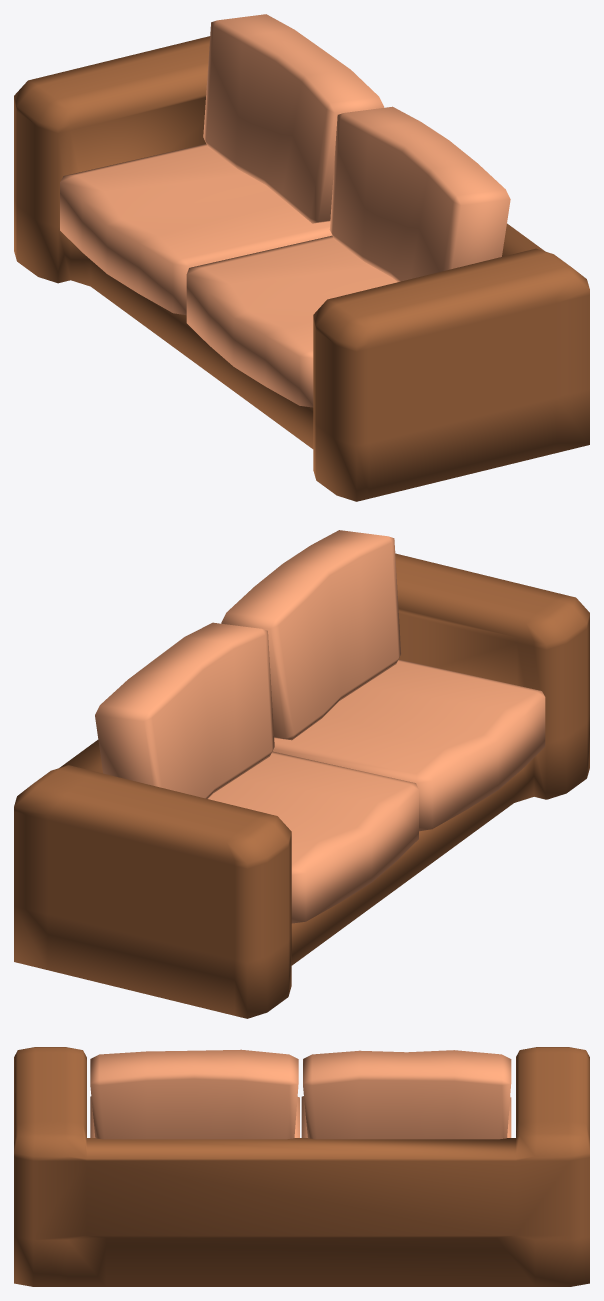
Rendered from Sofa.fbx.
3 renders of one model, top to bottom at view 1: azimuth 30°, elevation 25°; view 2: azimuth 150°, elevation 25°; view 3: azimuth 270°, elevation 25°, orthographic. The views are drawn at different scales.
Parts seen in each view (by area): view 1: Cube.8145; view 2: Cube.8145; view 3: Cube.8145.
Boxes of the visible parts, left/top/right/bottom form: Cube.8145: left=14, top=14, right=589, bottom=501; Cube.8145: left=14, top=530, right=589, bottom=1018; Cube.8145: left=14, top=1047, right=589, bottom=1286.
Size of the model in its own units: 131 by 118 by 303.
1 material, 1 textured.
